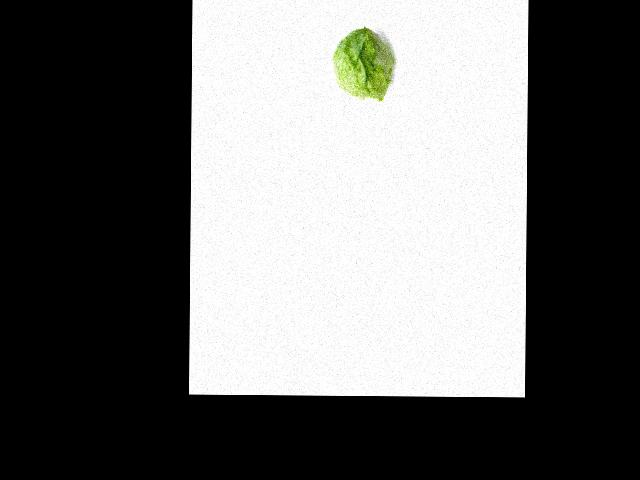lettuce: (328, 27, 398, 100)
